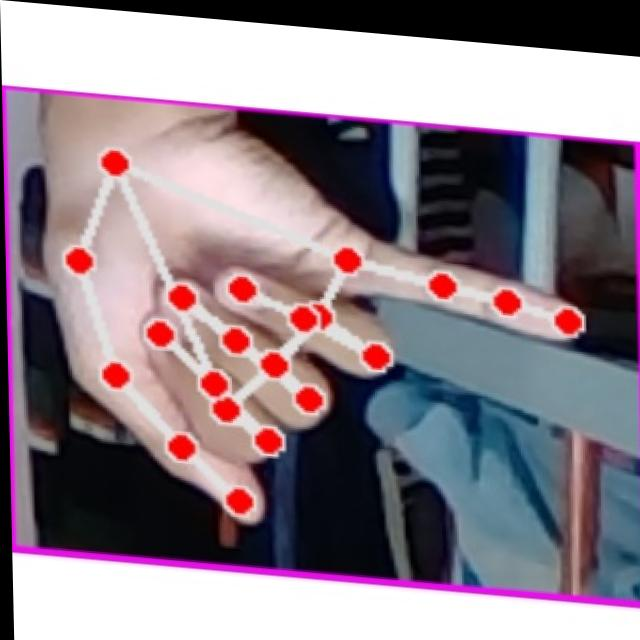J: (25, 109, 605, 555)
